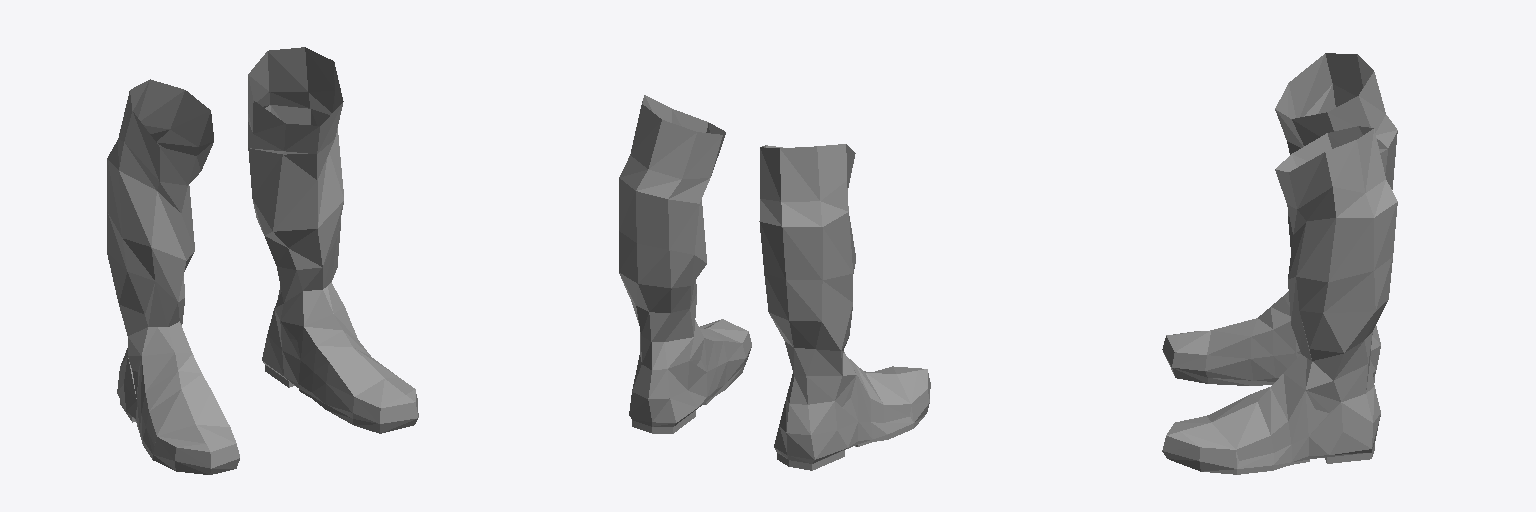
File: Sapogi.obj
The picture shows the model from 3 angles: view 1: azimuth 30°, elevation 25°; view 2: azimuth 150°, elevation 25°; view 3: azimuth 270°, elevation 25°; orthographic projection.
Parts seen in each view (by area): view 1: Sapogi_Mesh.001; view 2: Sapogi_Mesh.001; view 3: Sapogi_Mesh.001.
Boxes of the visible parts, x1,y1,x2,y2 form: Sapogi_Mesh.001: [107, 47, 418, 474]; Sapogi_Mesh.001: [619, 95, 930, 470]; Sapogi_Mesh.001: [1162, 53, 1397, 474].
Size of the model in its own units: 1.46 by 1.79 by 1.2.